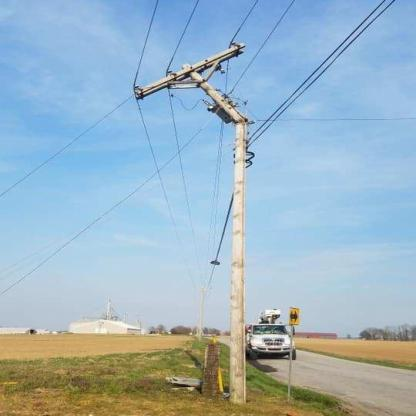Electrical Pole: (120, 32, 302, 163), (205, 122, 263, 406)
